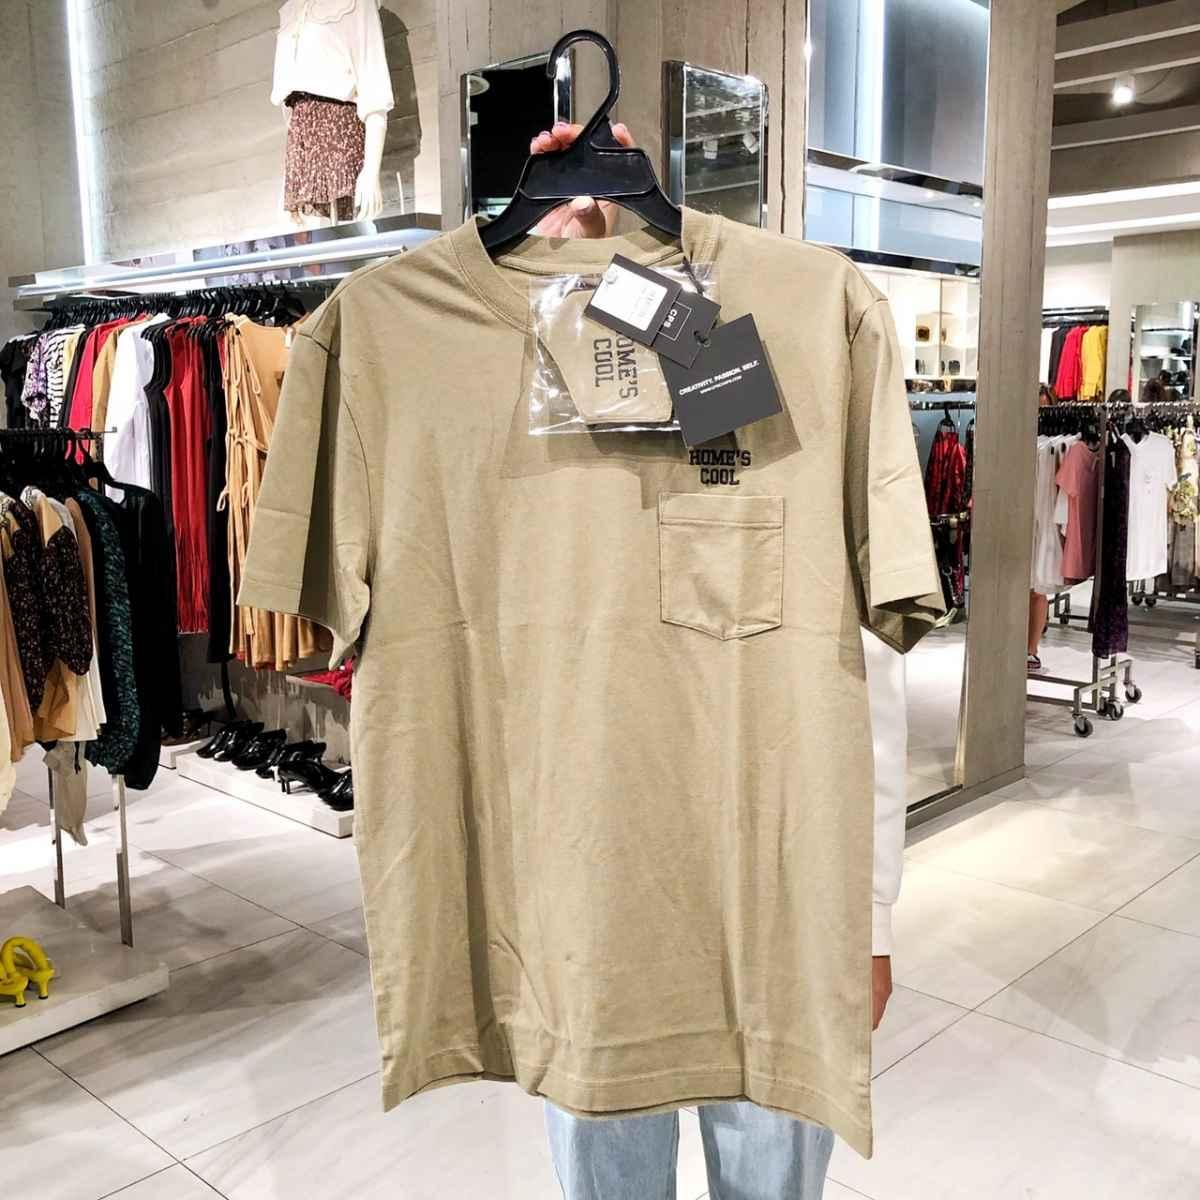Tshirt: (236, 221, 978, 1160)
